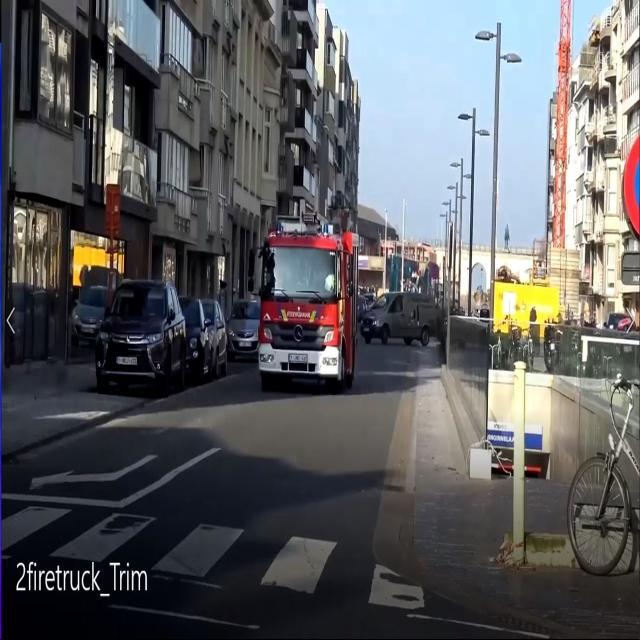emergency: (249, 216, 367, 404)
